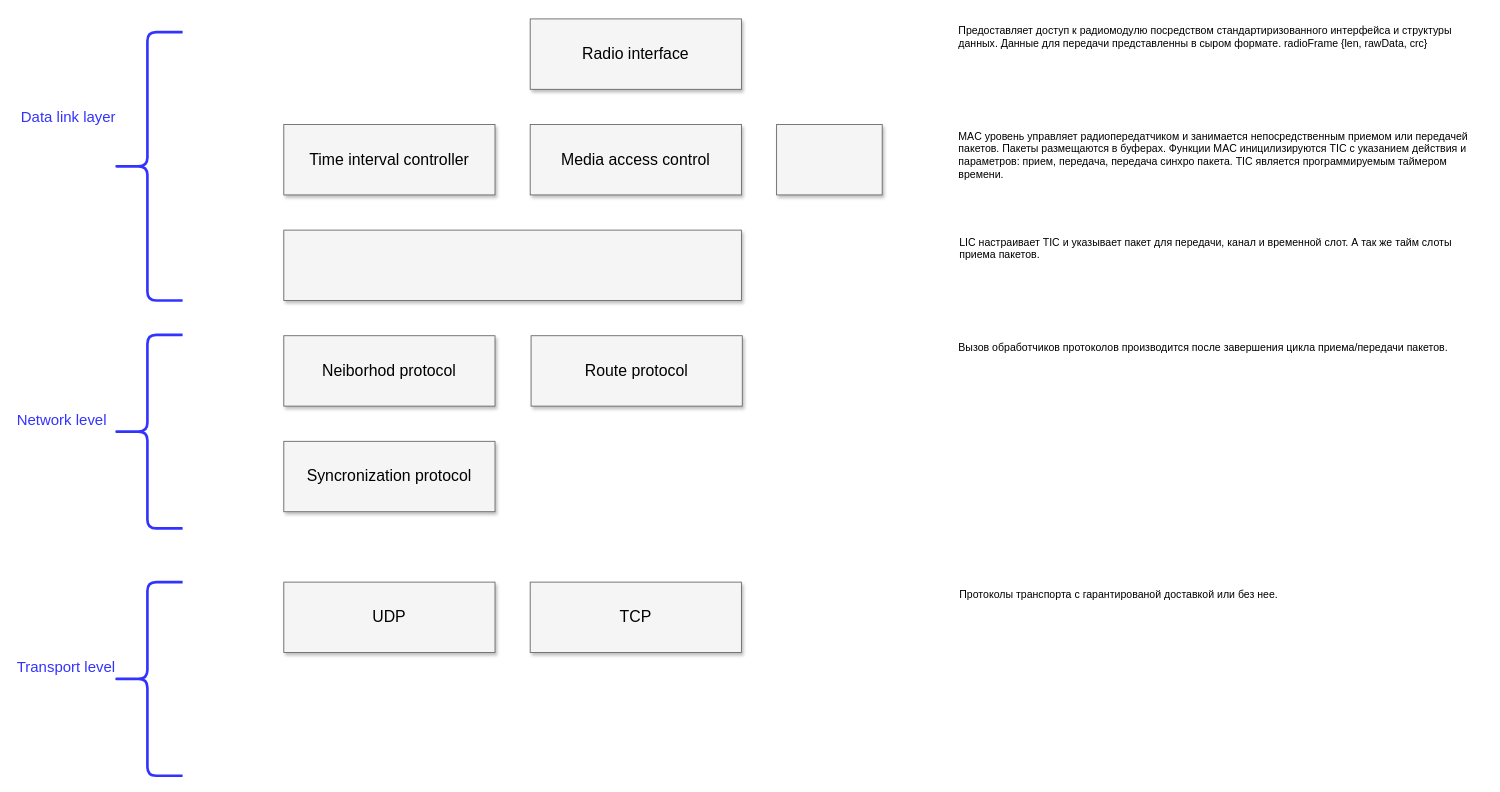
This 1500x792 diagram has some shape labels left out. The shapes that lost their labels are listed below. From the top down, each one's centre as x and y in pixels, then its label:
(829,160): Packet transmition protocol
(513,266): Link logic controller
